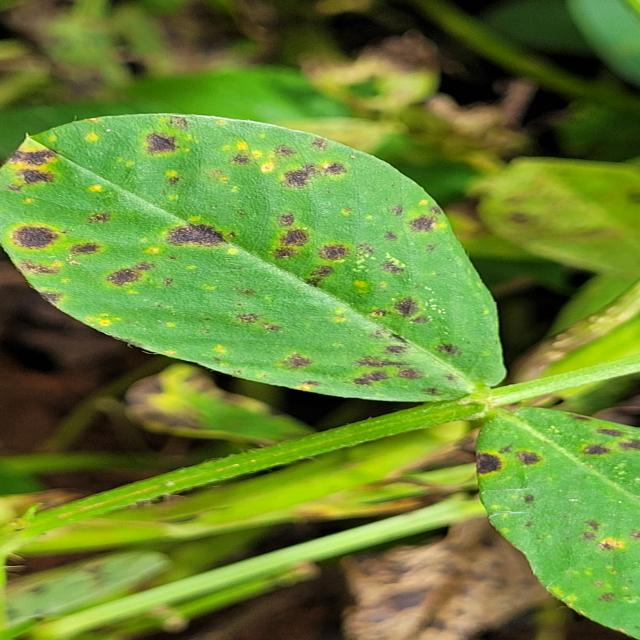Ground nut_tikka leaf spot: (3, 113, 515, 403)
